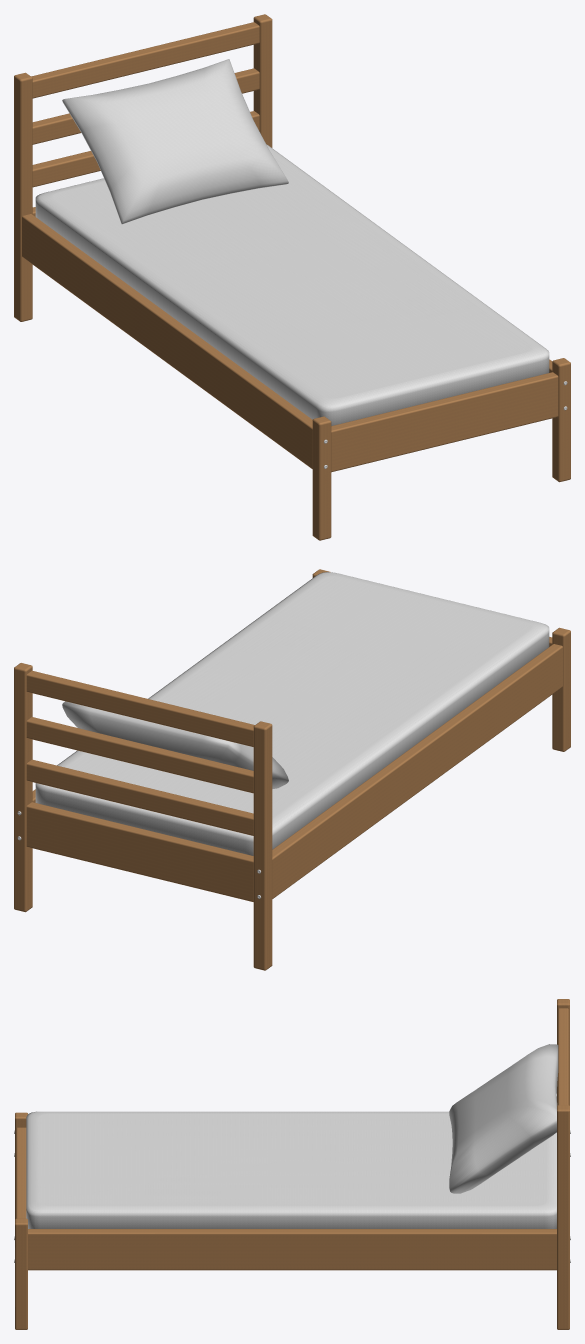
Rendered from Bed.fbx.
The picture shows the model from 3 angles, top to bottom: view 1: azimuth 30°, elevation 25°; view 2: azimuth 150°, elevation 25°; view 3: azimuth 270°, elevation 25°; orthographic projection. The views are drawn at different scales.
Visible parts, largest first — view 1: BedMattress, BedFrame, BedPillow; view 2: BedMattress, BedFrame, BedPillow; view 3: BedMattress, BedFrame, BedPillow.
Part boxes in pixels (x1,y1,x2,y2): BedMattress: (35, 144, 549, 425); BedFrame: (14, 14, 570, 540); BedPillow: (62, 59, 288, 224); BedMattress: (35, 572, 549, 855); BedFrame: (14, 569, 570, 970); BedPillow: (62, 701, 288, 788); BedMattress: (26, 1111, 556, 1228); BedFrame: (14, 999, 570, 1329); BedPillow: (449, 1044, 558, 1193).
Size of the model in its own units: 100 by 91.85 by 211.
